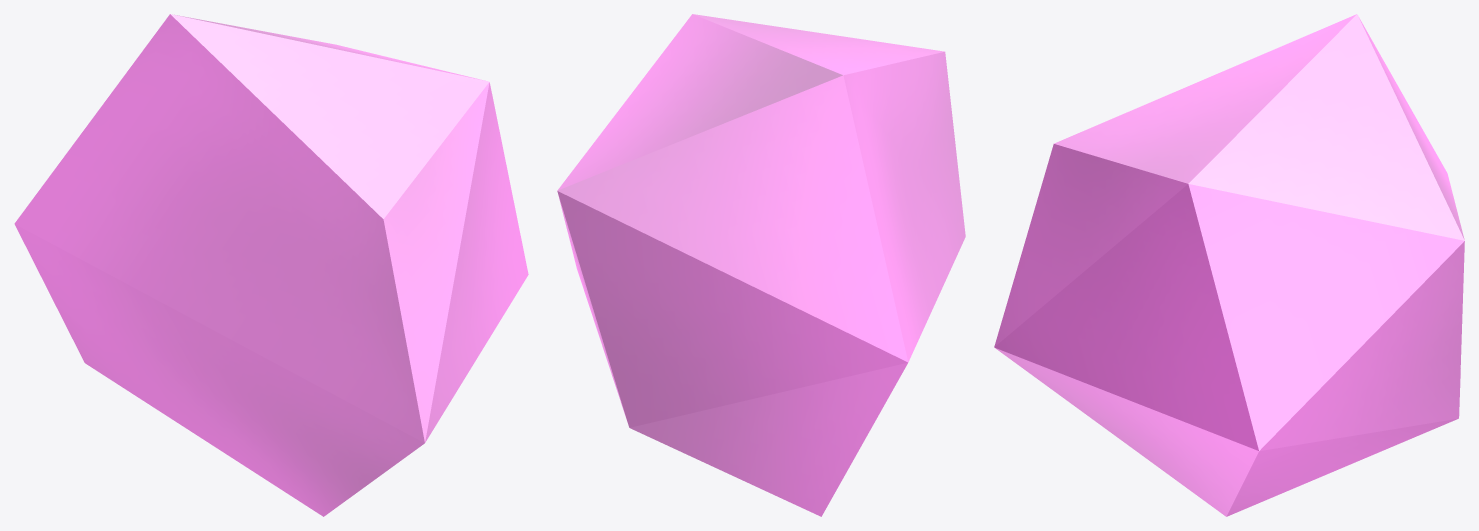
File: Cristal_gem.014.fbx
The picture shows the model from 3 angles, left to right: view 1: azimuth 30°, elevation 25°; view 2: azimuth 150°, elevation 25°; view 3: azimuth 270°, elevation 25°; orthographic projection. The views are drawn at different scales.
Parts seen in each view (by area): view 1: Crystal_gem.014; view 2: Crystal_gem.014; view 3: Crystal_gem.014.
Boxes of the visible parts, x1=… form: Crystal_gem.014: x1=14, y1=14, x2=528, y2=516; Crystal_gem.014: x1=557, y1=14, x2=965, y2=516; Crystal_gem.014: x1=994, y1=14, x2=1464, y2=516.
Bounding box in the file's own units: 37.59 × 40.87 × 37.74.
